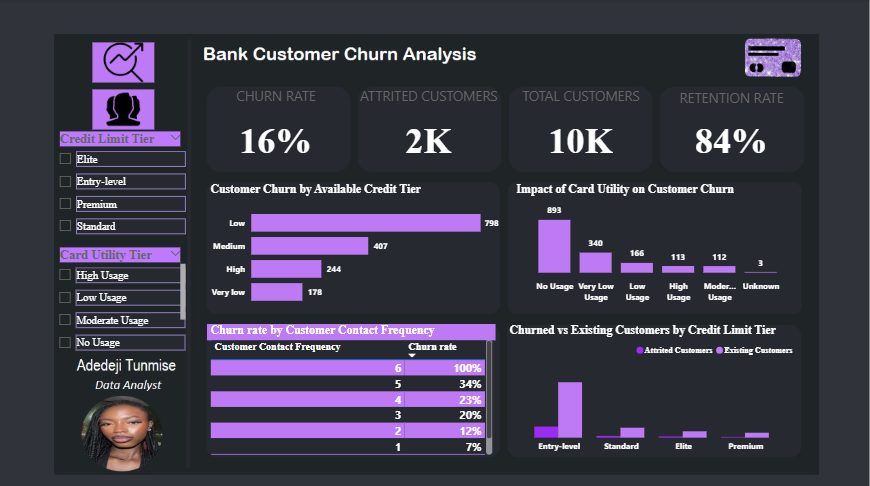

The page's visual inventory and layout, read from the dashboard file:
{"tool":"powerbi","page":{"name":"Churn analysis","canvas":[1280,720],"ordinal":0},"visuals":[{"type":"clusteredColumnChart","title":"Churned vs Existing Customers by Credit Limit Tier","fields":{"Y":["BankChurners.Churn_Count","BankChurners.Existing_Cst"],"Category":["BankChurners.Credit Limit_Tier"]},"box":[746.9,477.6,430.9,197],"z":0},{"type":"tableEx","title":"Churn rate by Customer Contact Frequency","fields":{"Values":["BankChurners.Contacts_Count_12_mon","BankChurners.Churn rate"]},"box":[307.6,477.6,423.8,197],"z":1000},{"type":"clusteredColumnChart","title":"Impact of Card Utility on Customer Churn","fields":{"Category":["BankChurners.Avg_Card Utility Tier"],"Y":["BankChurners.Attrited Customers"]},"box":[756.9,270.7,418.1,182.8],"z":2000},{"type":"cardVisual","title":"ATTRITED CUSTOMERS","fields":{"Data":["BankChurners.Churn_Count"]},"box":[524.4,127.6,216.9,127.6],"z":3000},{"type":"cardVisual","title":"TOTAL CUSTOMERS","fields":{"Data":["BankChurners.Total Customers"]},"box":[756.9,127.6,199.8,127.6],"z":4000},{"type":"cardVisual","title":"CHURN RATE","fields":{"Data":["BankChurners.Overall Churn Rate"]},"box":[307.6,127.6,202.7,127.6],"z":5000},{"type":"clusteredBarChart","title":"Customer Churn by Available Credit Tier","fields":{"Category":["BankChurners.Available credit tier"],"Y":["BankChurners.Churn_Count"]},"box":[307.6,270.7,433.7,192.8],"z":6000},{"type":"slicer","fields":{"Values":["BankChurners.Credit Limit_Tier"]},"box":[78,189.9,202.7,170.1],"z":7000},{"type":"image","box":[133.2,58.1,100.6,69.4],"z":8000},{"type":"image","box":[133.2,127.6,100.6,69.4],"z":9000},{"type":"slicer","title":"CARD UTILITY TIER","fields":{"Values":["BankChurners.Avg_Card Utility Tier"]},"box":[78,360,202.7,161.6],"z":10000},{"type":"cardVisual","title":"RETENTION RATE","fields":{"Data":["BankChurners.Retention rate"]},"box":[976.5,130.4,201.3,121.9],"z":11000}]}

Visuals, with their boxes in screenshot pixels (x1, y1, x2, y2), scaled from the page's 1280x720 canvas onto the 870x486 screenshot:
"Churned vs Existing Customers by Credit Limit Tier" clusteredColumnChart: x1=508 y1=322 x2=801 y2=455
"Churn rate by Customer Contact Frequency" tableEx: x1=209 y1=322 x2=497 y2=455
"Impact of Card Utility on Customer Churn" clusteredColumnChart: x1=514 y1=183 x2=799 y2=306
"ATTRITED CUSTOMERS" cardVisual: x1=356 y1=86 x2=504 y2=172
"TOTAL CUSTOMERS" cardVisual: x1=514 y1=86 x2=650 y2=172
"CHURN RATE" cardVisual: x1=209 y1=86 x2=347 y2=172
"Customer Churn by Available Credit Tier" clusteredBarChart: x1=209 y1=183 x2=504 y2=313
slicer - BankChurners.Credit Limit_Tier: x1=53 y1=128 x2=191 y2=243
image: x1=91 y1=39 x2=159 y2=86
image: x1=91 y1=86 x2=159 y2=133
"CARD UTILITY TIER" slicer: x1=53 y1=243 x2=191 y2=352
"RETENTION RATE" cardVisual: x1=664 y1=88 x2=801 y2=170
